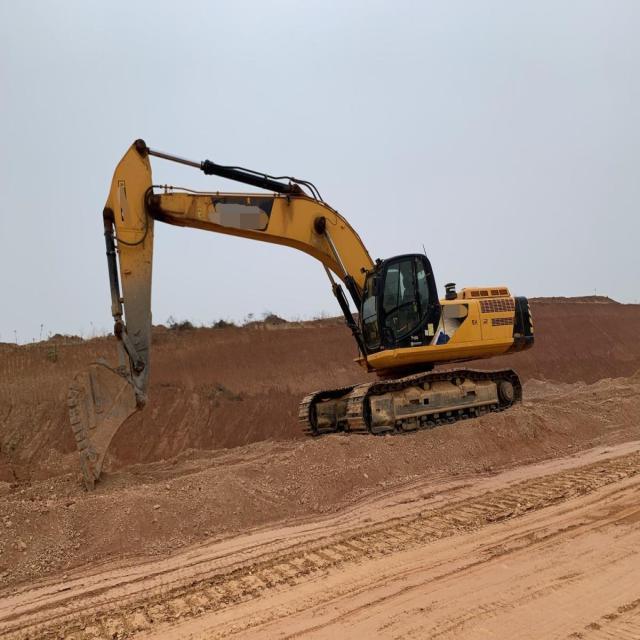excavator: (85, 126, 565, 446)
